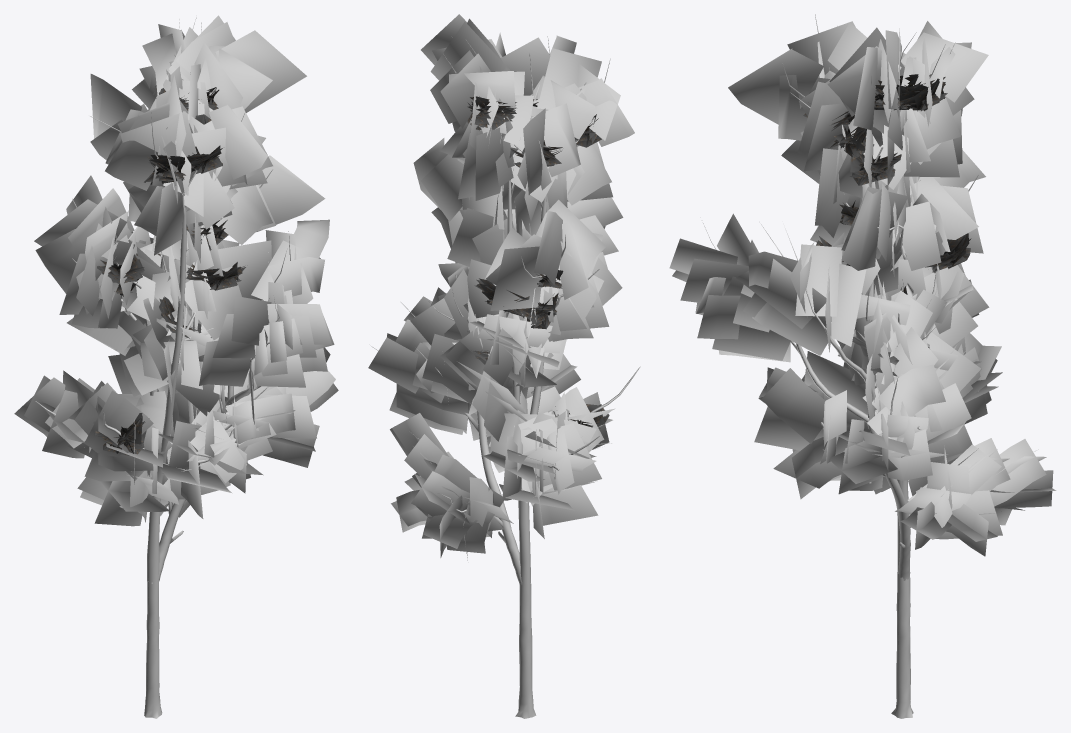
File: Old_Horror_Tree8345.fbx
3 views of the same model, side by side, from view 1: azimuth 30°, elevation 25°; view 2: azimuth 150°, elevation 25°; view 3: azimuth 270°, elevation 25° (orthographic). The views are drawn at different scales.
Parts seen in each view (by area): view 1: Old_Horror_Tree8345_Branches_08, Old_Horror_Tree8345_RiverBirchBark, Old_Horror_Tree8345_diffus; view 2: Old_Horror_Tree8345_Branches_08, Old_Horror_Tree8345_RiverBirchBark, Old_Horror_Tree8345_diffus; view 3: Old_Horror_Tree8345_Branches_08, Old_Horror_Tree8345_RiverBirchBark, Old_Horror_Tree8345_diffus.
Part boxes in pixels (box(x1,y1,x2,y2)): Old_Horror_Tree8345_Branches_08: box(14, 15, 338, 526); Old_Horror_Tree8345_RiverBirchBark: box(35, 17, 290, 718); Old_Horror_Tree8345_diffus: box(93, 85, 245, 455); Old_Horror_Tree8345_Branches_08: box(368, 14, 634, 560); Old_Horror_Tree8345_RiverBirchBark: box(371, 36, 640, 718); Old_Horror_Tree8345_diffus: box(448, 96, 609, 429); Old_Horror_Tree8345_Branches_08: box(669, 21, 1056, 556); Old_Horror_Tree8345_RiverBirchBark: box(703, 14, 1038, 718); Old_Horror_Tree8345_diffus: box(803, 74, 971, 347).
Bounding box in the file's own units: 46.47 × 58.66 × 120.
